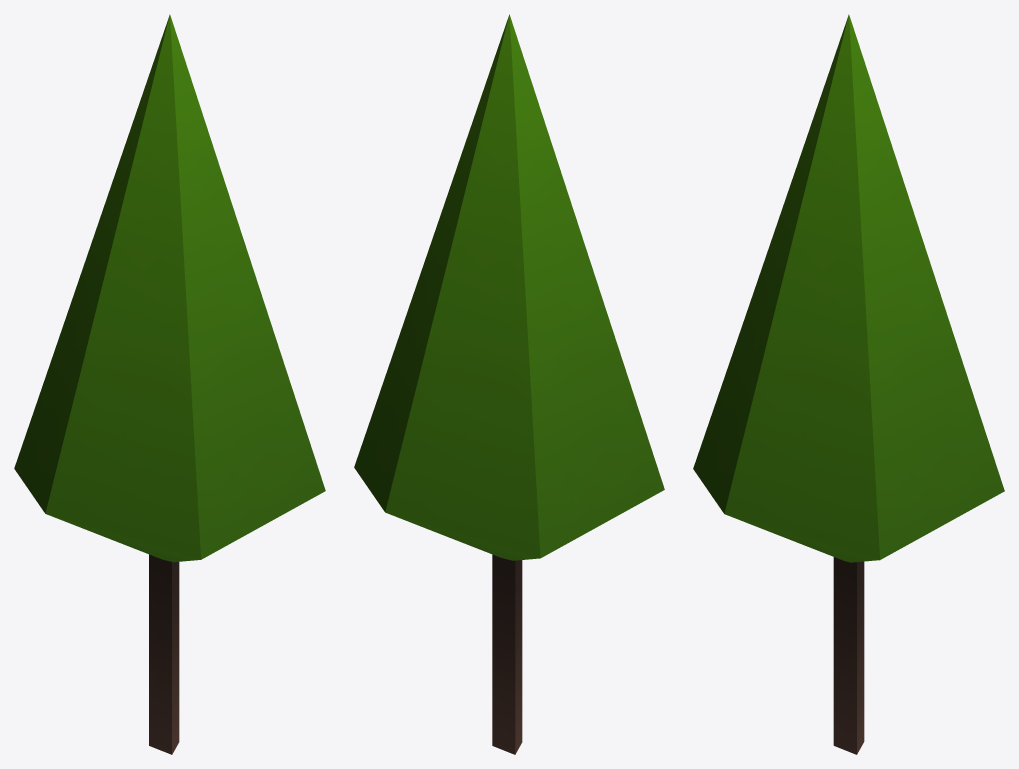
The model's file is Env_Tree_A.fbx.
3 views of the same model, side by side, from view 1: azimuth 30°, elevation 25°; view 2: azimuth 150°, elevation 25°; view 3: azimuth 270°, elevation 25° (orthographic).
Visible parts, largest first — view 1: Env_Tree_A; view 2: Env_Tree_A; view 3: Env_Tree_A.
Boxes of the visible parts, <box> form: Env_Tree_A: <box>14,14,325,754</box>; Env_Tree_A: <box>354,14,664,754</box>; Env_Tree_A: <box>693,14,1004,754</box>.
Size of the model in its own units: 506 by 1265 by 487.
